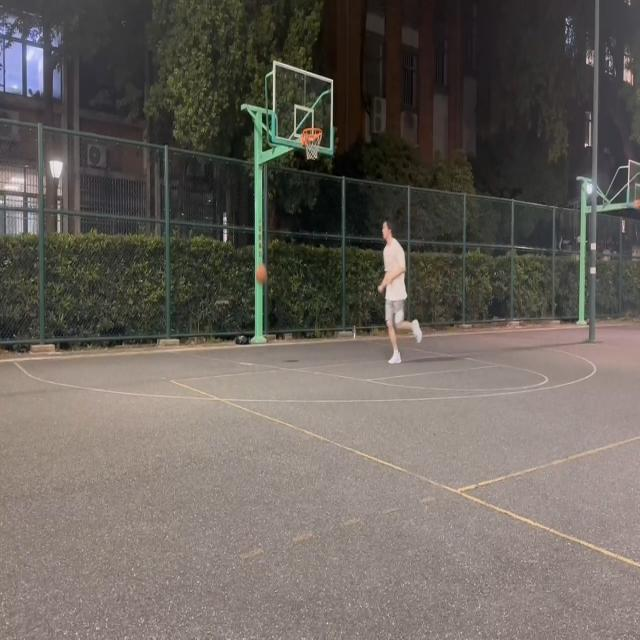basketball: (302, 127, 322, 161)
rim: (255, 263, 268, 283)
